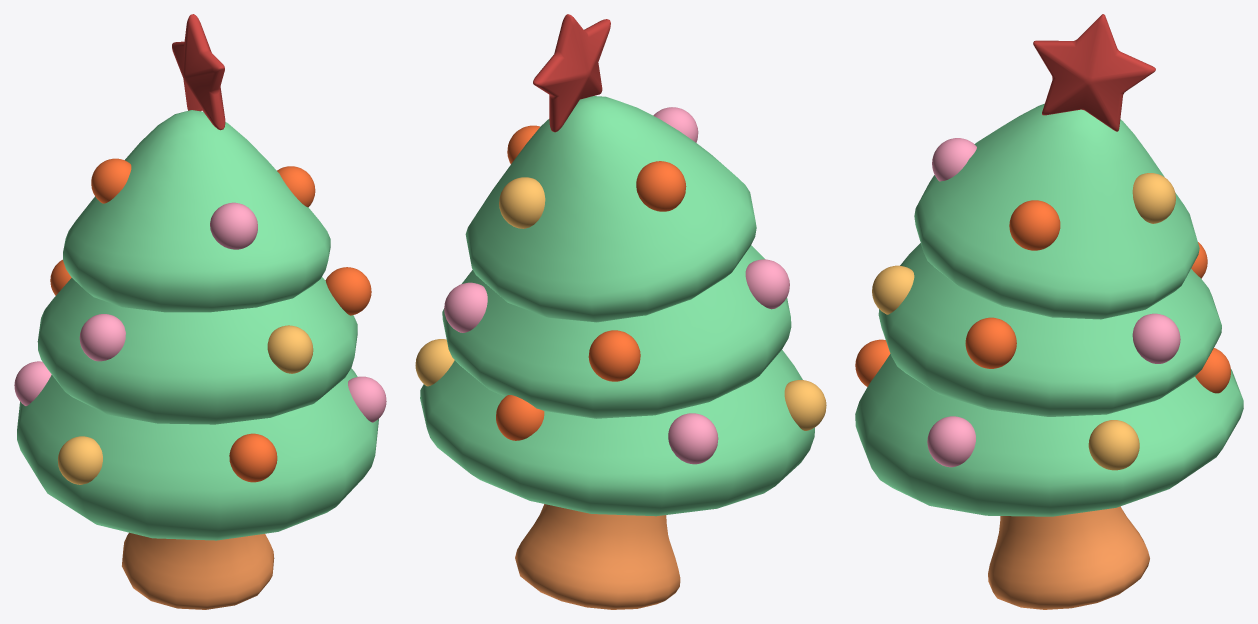
Rendered from tree.glb.
3 renders of one model, left to right at view 1: azimuth 30°, elevation 25°; view 2: azimuth 150°, elevation 25°; view 3: azimuth 270°, elevation 25°, orthographic. The views are drawn at different scales.
Parts seen in each view (by area): view 1: Cube, colorPart, Sphere.007, Sphere.016, Sphere.005, Sphere.006, Sphere.004, Sphere.015, Sphere.001, Sphere.008, Sphere.012, Sphere.013; view 2: Cube, colorPart, Sphere.003, Sphere.012, Sphere.001, Sphere.002, Sphere.009, Sphere.004, Sphere.005, Sphere.010, Sphere.014, Sphere.016 (+1 smaller); view 3: Cube, colorPart, Sphere.015, Sphere.014, Sphere.013, Sphere.008, Sphere.009, Sphere.002, Sphere.006, Sphere.016, Sphere.007, Sphere.010.
Boxes of the visible parts, left/top/right/bottom form: Cube: left=17, top=110, right=378, bottom=609; colorPart: left=172, top=14, right=225, bottom=130; Sphere.007: left=229, top=433, right=277, bottom=482; Sphere.016: left=210, top=202, right=257, bottom=249; Sphere.005: left=57, top=436, right=102, bottom=484; Sphere.006: left=267, top=325, right=313, bottom=373; Sphere.004: left=79, top=314, right=125, bottom=361; Sphere.015: left=325, top=267, right=371, bottom=315; Sphere.001: left=91, top=158, right=131, bottom=203; Sphere.008: left=348, top=376, right=386, bottom=422; Sphere.012: left=14, top=361, right=51, bottom=405; Sphere.013: left=277, top=166, right=315, bottom=207; Cube: left=420, top=96, right=814, bottom=609; colorPart: left=533, top=14, right=610, bottom=132; Sphere.003: left=588, top=330, right=640, bottom=381; Sphere.012: left=668, top=413, right=718, bottom=464; Sphere.001: left=636, top=161, right=686, bottom=211; Sphere.002: left=499, top=177, right=545, bottom=228; Sphere.009: left=444, top=282, right=487, bottom=332; Sphere.004: left=745, top=259, right=789, bottom=309; Sphere.005: left=784, top=380, right=826, bottom=430; Sphere.010: left=496, top=395, right=544, bottom=440; Sphere.014: left=415, top=339, right=454, bottom=386; Sphere.016: left=653, top=107, right=698, bottom=142; Cube: left=855, top=103, right=1243, bottom=609; colorPart: left=1033, top=14, right=1155, bottom=131; Sphere.015: left=965, top=317, right=1016, bottom=368; Sphere.014: left=1088, top=420, right=1139, bottom=470; Sphere.013: left=1009, top=200, right=1060, bottom=250; Sphere.008: left=927, top=416, right=975, bottom=467; Sphere.009: left=1132, top=313, right=1180, bottom=363; Sphere.002: left=1132, top=173, right=1175, bottom=223; Sphere.006: left=872, top=265, right=914, bottom=314; Sphere.016: left=932, top=138, right=976, bottom=181; Sphere.007: left=855, top=339, right=890, bottom=386; Sphere.010: left=1195, top=348, right=1230, bottom=393.
Bounding box in the file's own units: 2.01 × 3.3 × 1.98.
